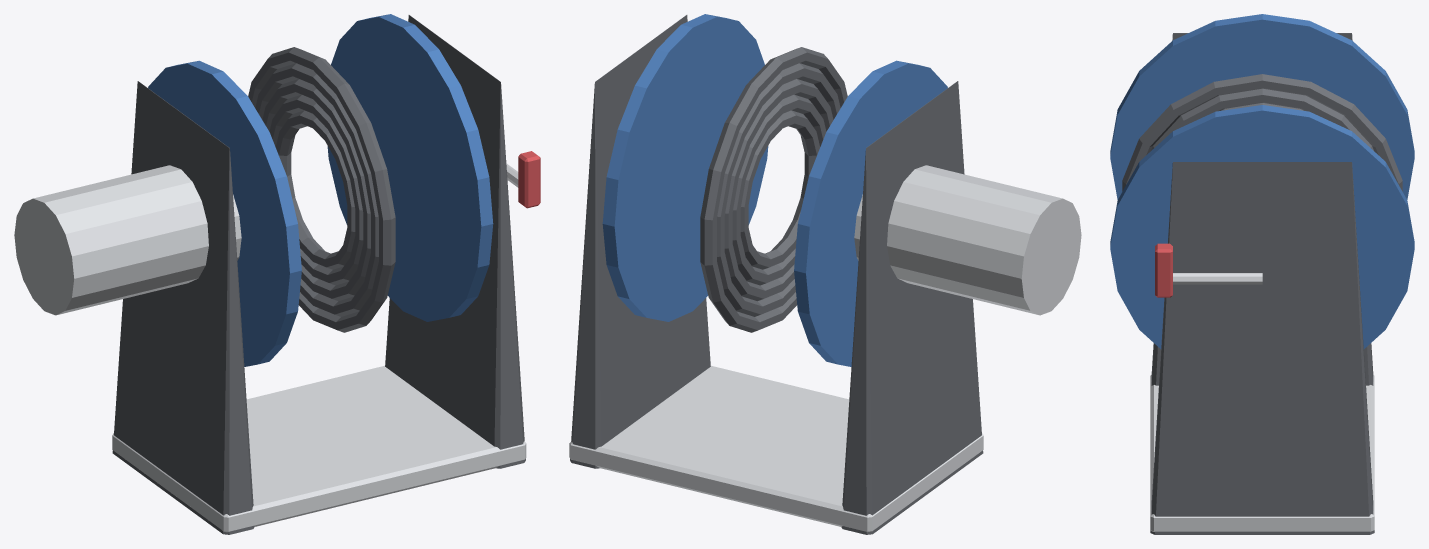
Rendered from ice-hockey-arena-and-locker-room-hose-reel-0a4e3a65__33712.glb.
3 views of the same model, side by side, from view 1: azimuth 30°, elevation 25°; view 2: azimuth 150°, elevation 25°; view 3: azimuth 270°, elevation 25° (orthographic). The views are drawn at different scales.
Parts seen in each view (by area): view 1: hose-reel; view 2: hose-reel; view 3: hose-reel.
Part boxes in pixels (x1,y1,x2,y2): hose-reel: (14,14,540,534); hose-reel: (569,14,1081,534); hose-reel: (1110,14,1414,534).
Size of the model in its own units: 1.11 by 0.98 by 0.68.
